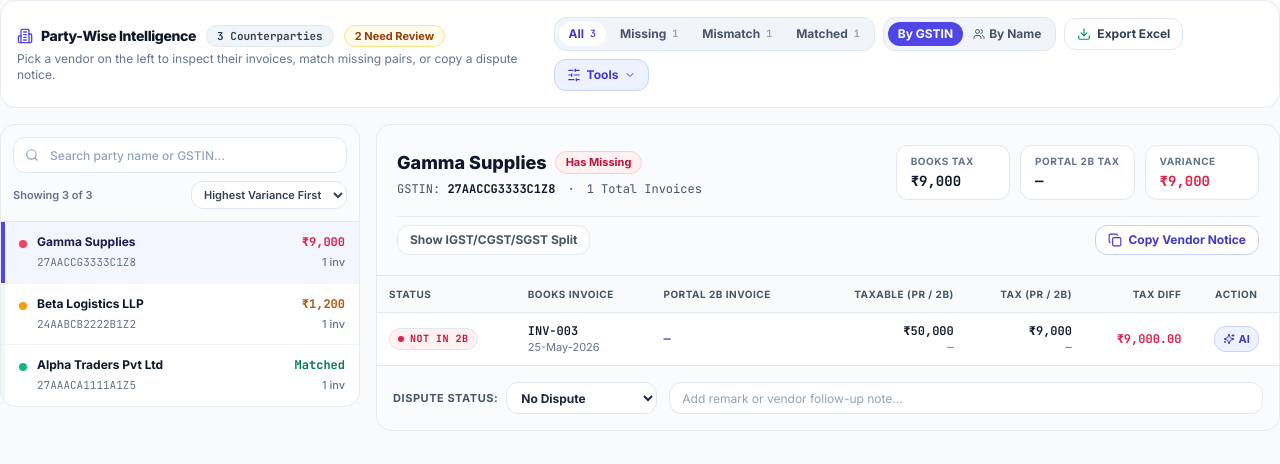
Test case: Step 4: SummaryCards, Reconciliation Dashboard & OutputDashboard UI › renders simplified Party-Wise Studio master-detail directory, tax split toggle, and status filters
The width and height of the screenshot is (1280, 464).
Check: the heading "Party-Wise Intelligence" is shown, box [17,26,196,46]
Check: the text "INV-003" is shown, box [528,323,578,339]
Click the button "Show IGST/CGST/SGST Split".
click(494, 240)  # box [397,225,590,255]
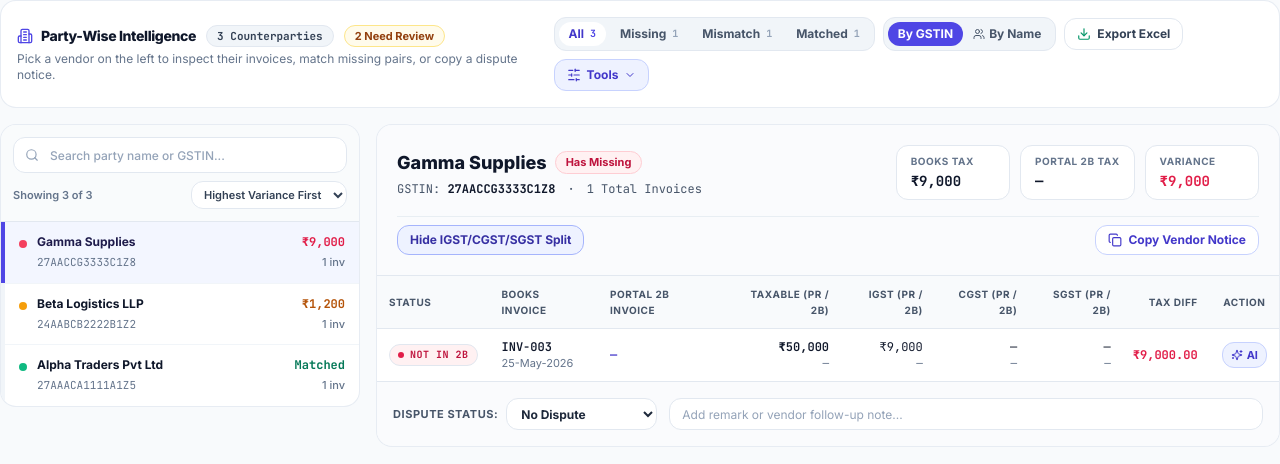
Check: the column heading "IGST (PR / 2B)" is shown, box [841,276,933,328]
// Selecting Alpha Traders in directory switches right inspector to INV-001
Click the text "Alpha Traders Pvt Ltd".
click(100, 365)  # box [37,357,163,373]
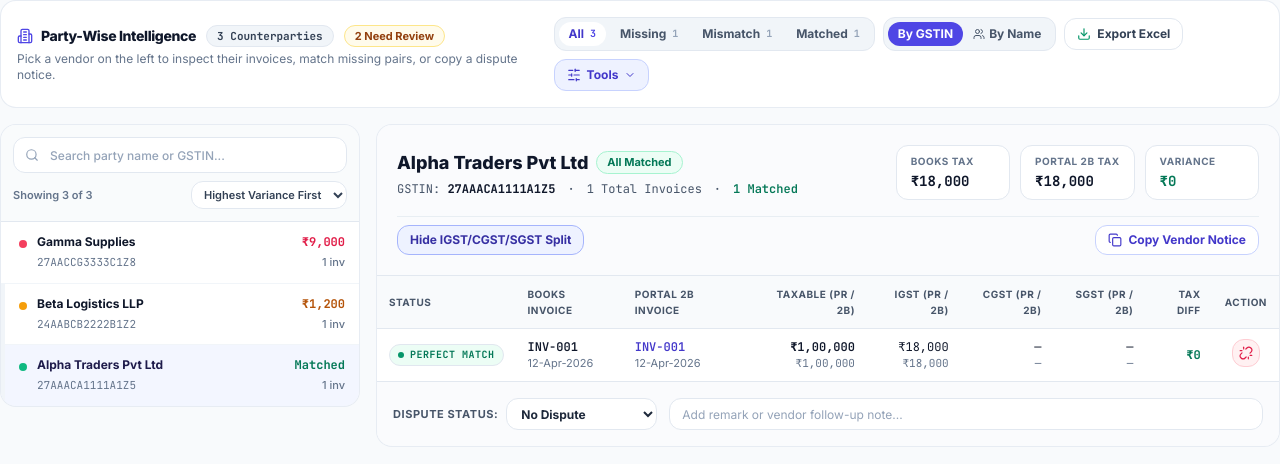
Check: the 1st text "INV-001" is shown, box [528,339,578,355]
// Filtering by Mismatch leaves Beta Logistics LLP visible and hides matched Alpha Traders
Click the text "Mismatch".
click(731, 34)  # box [702,26,760,42]
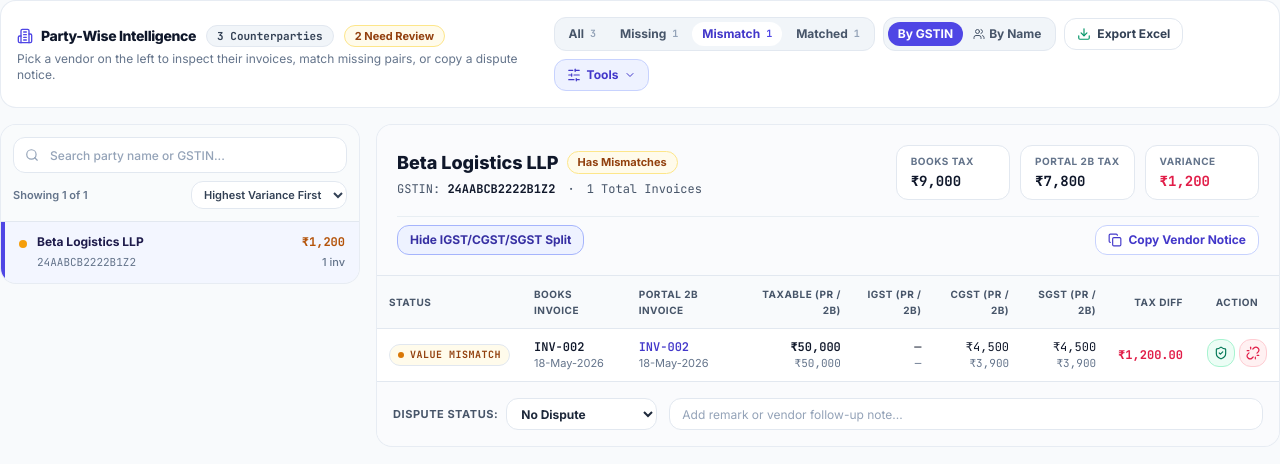
Check: the text "Beta Logistics LLP" is shown, box [37,234,144,250]
Check: the button "Alpha Traders Pvt Ltd" is gone
